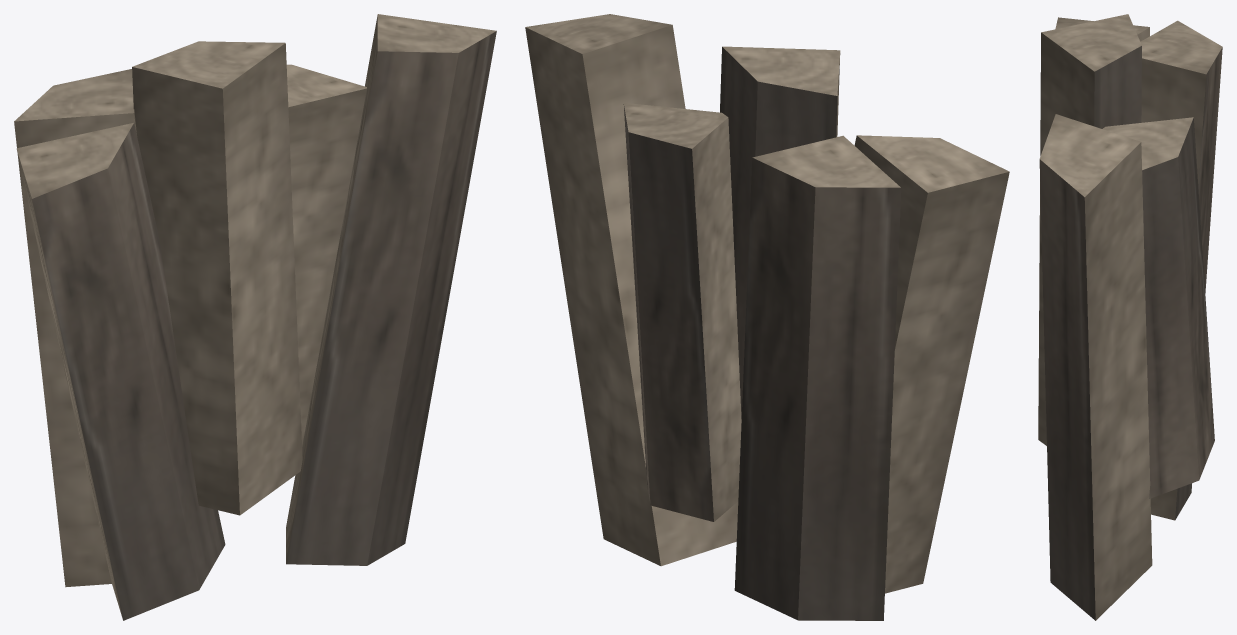
Rendered from Wood_Stack_B.fbx.
The picture shows the model from 3 angles, left to right: view 1: azimuth 30°, elevation 25°; view 2: azimuth 150°, elevation 25°; view 3: azimuth 270°, elevation 25°; orthographic projection. The views are drawn at different scales.
Visible parts, largest first — view 1: Wood_Stack_B; view 2: Wood_Stack_B; view 3: Wood_Stack_B.
Part boxes in pixels (x1,y1,x2,y2): Wood_Stack_B: [14, 14, 496, 620]; Wood_Stack_B: [525, 14, 1009, 620]; Wood_Stack_B: [1038, 14, 1222, 620].
Bounding box in the file's own units: 1.04 × 1.1 × 0.3723.
